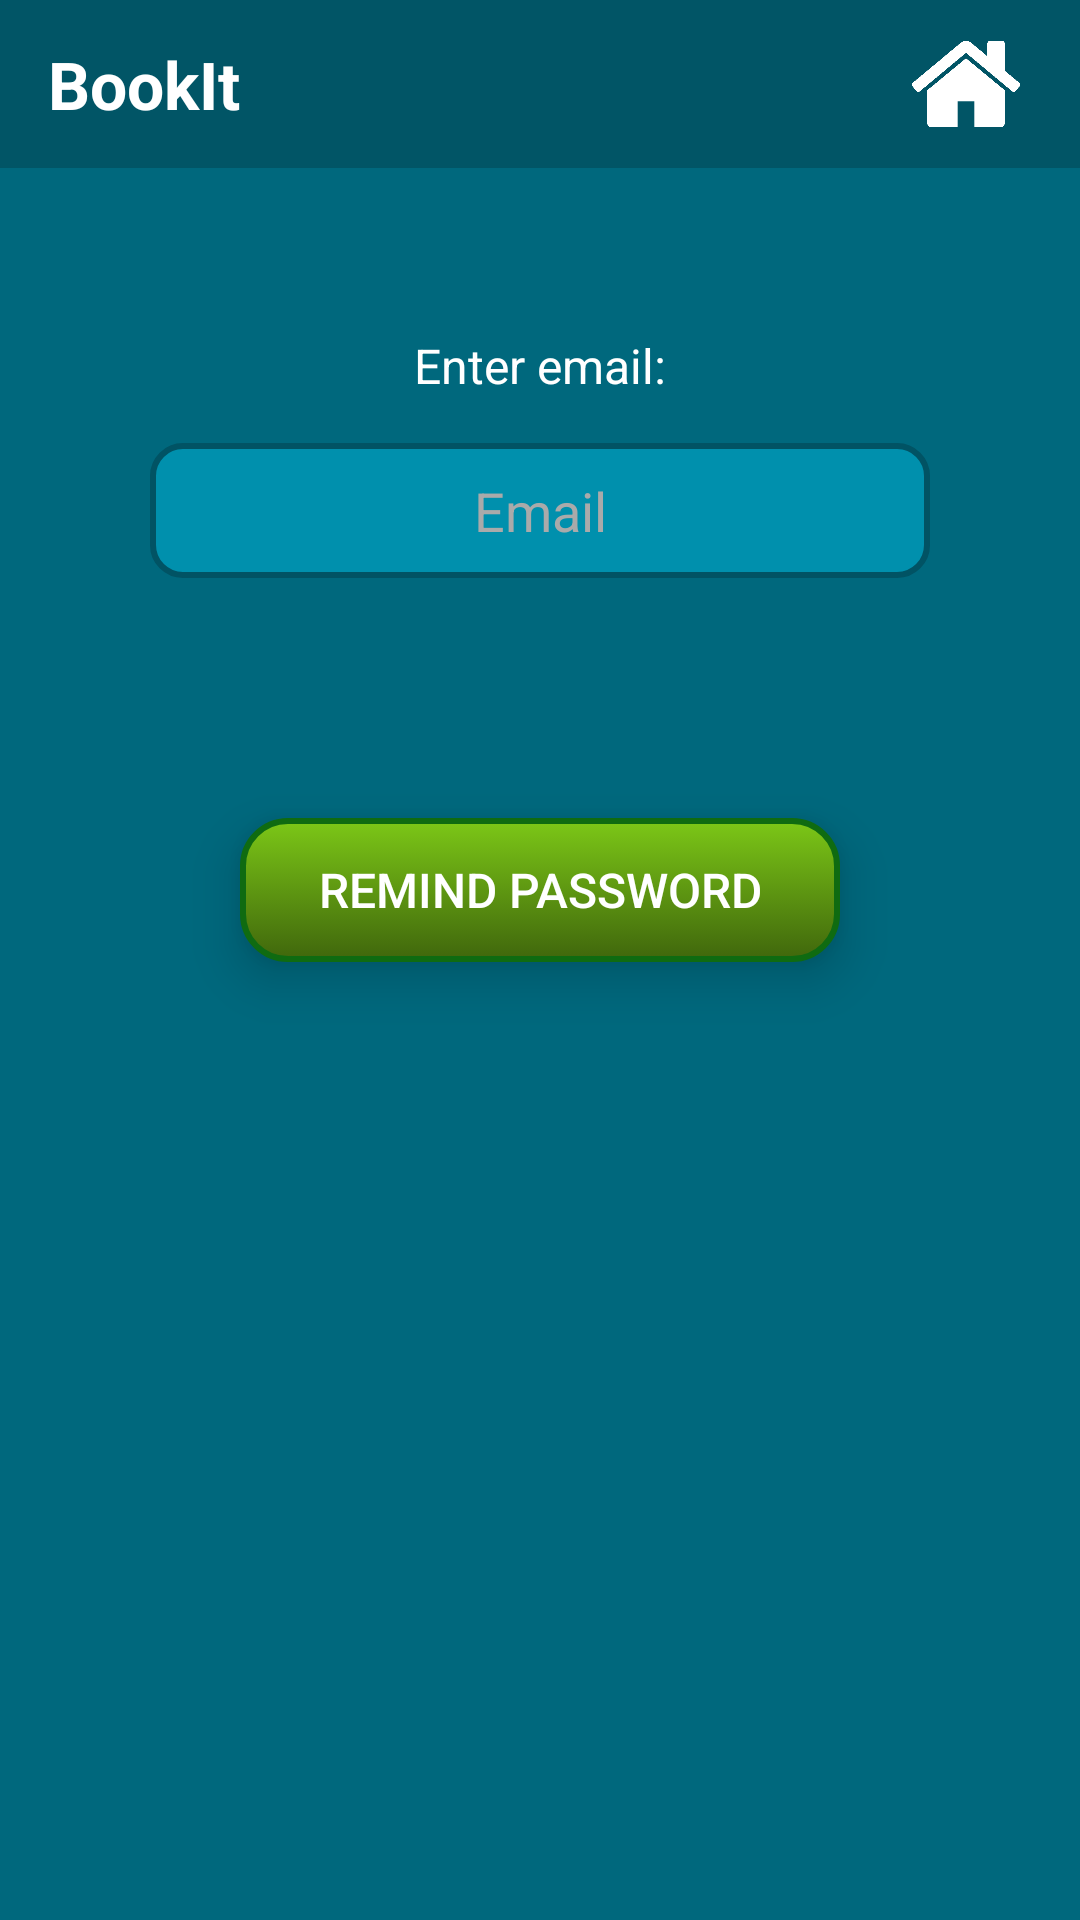

Screen size 1080 × 1920. Icon name, then its center in pixels as [x,y]:
home: [966,84]
